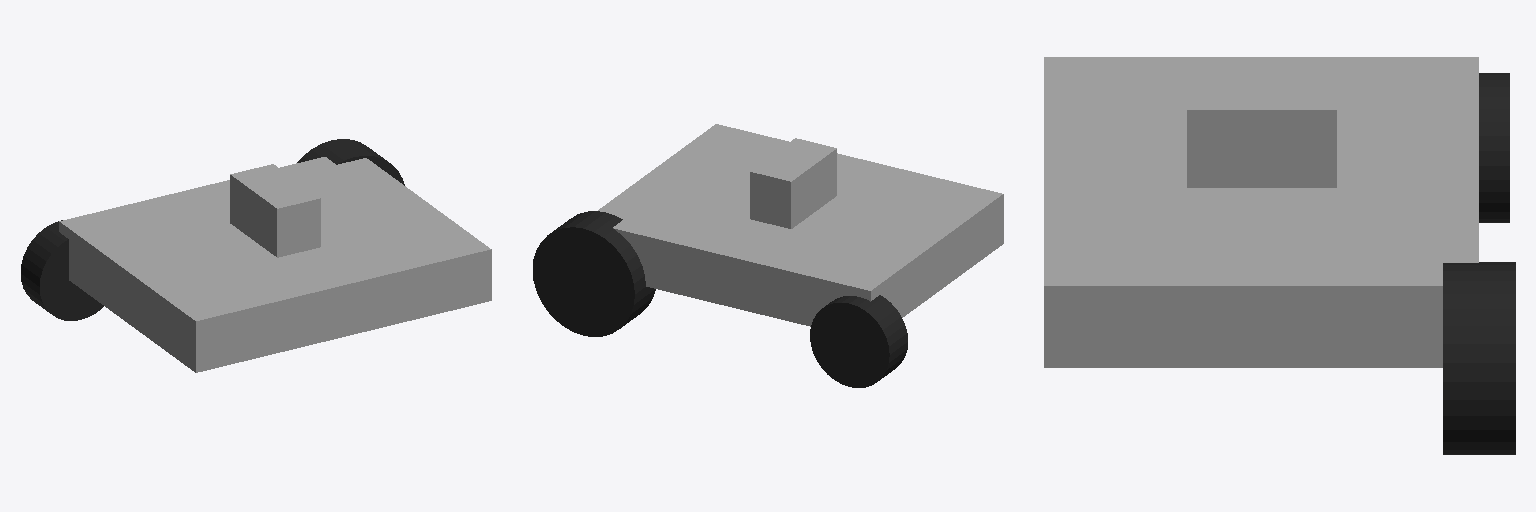
robot.urdf — evolved_robot:
<?xml version="1.0"?>
<robot name="evolved_robot">
  <material name="metal">
    <color rgba="0.7 0.7 0.7 1.0"/>
  </material>
  <material name="plastic">
    <color rgba="0.3 0.3 0.9 1.0"/>
  </material>
  <material name="rubber">
    <color rgba="0.1 0.1 0.1 1.0"/>
  </material>
  <material name="red">
    <color rgba="1.0 0.0 0.0 1.0"/>
  </material>
  <material name="wheel_material">
    <color rgba="0.2 0.2 0.2 1.0"/>
  </material>
  <link name="base_link">
    <visual>
      <geometry><box size="0.49788532302984734 0.3987362303383032 0.0831707420564455"/></geometry>
      <material name="metal"/>
    </visual>
    <collision>
      <geometry><box size="0.49788532302984734 0.3987362303383032 0.0831707420564455"/></geometry>
    </collision>
    <inertial>
      <mass value="5.0"/>
      <inertia ixx="0.13825662809885012" ixy="0" ixz="0" 
               iyy="0.21233930601896267" iyz="0" 
               izz="0.33906698022744647"/>
    </inertial>
  </link>
  <link name="link1">
    <visual>
      <geometry>
        <cylinder radius="0.08872452583210874" length="0.06684909936539539"/>
      </geometry>
      <material name="wheel_material"/>
    </visual>
    <collision>
      <geometry>
        <cylinder radius="0.08872452583210874" length="0.06684909936539539"/>
      </geometry>
    </collision>
    <inertial>
      <mass value="1.0"/>
      <inertia ixx="0.0023404105448635083" ixy="0" ixz="0" 
               iyy="0.0023404105448635083" iyz="0" 
               izz="0.003936020742066265"/>
    </inertial>
  </link>
  <joint name="joint1" type="continuous">
    <parent link="base_link"/>
    <child link="link1"/>
    <origin xyz="0.22894266151492368 0.1993681151691516 -0.04158537102822275" rpy="1.5708 0 0"/>
    <axis xyz="0 1 0"/>
    <dynamics damping="0.6857329972548736" friction="0.1"/>
  </joint>
  <link name="link2">
    <visual>
      <geometry>
        <cylinder radius="0.06908914466058469" length="0.05595963335028588"/>
      </geometry>
      <material name="wheel_material"/>
    </visual>
    <collision>
      <geometry>
        <cylinder radius="0.06908914466058469" length="0.05595963335028588"/>
      </geometry>
    </collision>
    <inertial>
      <mass value="1.0"/>
      <inertia ixx="0.0014542841912076685" ixy="0" ixz="0" 
               iyy="0.0014542841912076685" iyz="0" 
               izz="0.002386654954965599"/>
    </inertial>
  </link>
  <joint name="joint2" type="continuous">
    <parent link="base_link"/>
    <child link="link2"/>
    <origin xyz="-0.22894266151492368 0.1993681151691516 -0.04158537102822275" rpy="1.5708 0 0"/>
    <axis xyz="0 1 0"/>
    <dynamics damping="0.27209279435767353" friction="0.1"/>
  </joint>
  <link name="link3">
    <visual>
      <geometry><box size="0.07260950542269651 0.13759779449251275 0.15752603910154817"/></geometry>
      <material name="metal"/>
    </visual>
    <collision>
      <geometry><box size="0.07260950542269651 0.13759779449251275 0.15752603910154817"/></geometry>
    </collision>
    <inertial>
      <mass value="0.5"/>
      <inertia ixx="0.0036456338370188545" ixy="0" ixz="0" 
               iyy="0.0025072161060625893" iyz="0" 
               izz="0.0020171077772443637"/>
    </inertial>
  </link>
  <joint name="joint3" type="floating">
    <parent link="base_link"/>
    <child link="link3"/>
    <origin xyz="0 0 0.04158537102822275" rpy="0 0 0"/>
    <axis xyz="0.05526330704976644 0.9966884420658388 -0.0596499484182018"/>
    <dynamics damping="0.8851749196689321" friction="0.1"/>
  </joint>
</robot>

--- Render facts (derived) ---
Views: 3 orthographic renders of the robot side by side, from view 1: azimuth 30°, elevation 25°; view 2: azimuth 150°, elevation 25°; view 3: azimuth 270°, elevation 25°.
Robot: evolved_robot — 4 links, 3 joints (2 continuous, 1 floating); root link base_link; default pose: all joints at 0.
Visible links, largest first — view 1: base_link, link3, link2, link1; view 2: base_link, link1, link2, link3; view 3: base_link, link3, link1, link2.
Boxes of the visible links, bbox=[...] form: base_link: bbox=[59, 157, 491, 372]; link3: bbox=[230, 164, 320, 257]; link2: bbox=[21, 220, 103, 320]; link1: bbox=[297, 139, 404, 185]; base_link: bbox=[598, 124, 1003, 326]; link1: bbox=[533, 211, 655, 336]; link2: bbox=[810, 295, 907, 387]; link3: bbox=[750, 138, 836, 228]; base_link: bbox=[1044, 57, 1478, 367]; link3: bbox=[1187, 77, 1336, 187]; link1: bbox=[1443, 262, 1515, 454]; link2: bbox=[1479, 73, 1509, 222].
Size in the robot's own frame: 0.6157 by 0.4322 by 0.2507 metres.
Geometry: primitives only (box / cylinder / sphere), no mesh files.